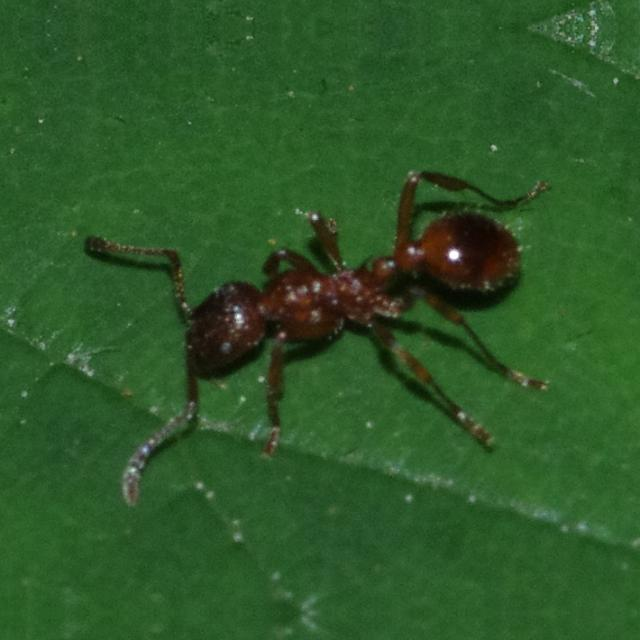Myrmica: (99, 147, 564, 450)
